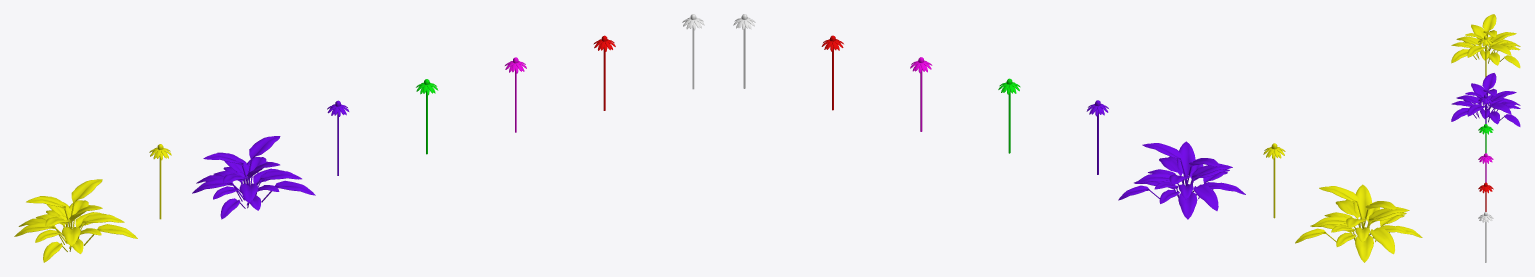
File: HostaConeflowerAltColours.fbx
The picture shows the model from 3 angles, left to right: view 1: azimuth 30°, elevation 25°; view 2: azimuth 150°, elevation 25°; view 3: azimuth 270°, elevation 25°; orthographic projection. The views are drawn at different scales.
Visible parts, largest first — view 1: no part large enough to name; view 2: pCube74 (×2); view 3: pCube74 (×28), pCylinder13 (×2).
Part boxes in pixels (<box>): pCube74 (×2): <box>1176,141,1372,219</box>; pCube74 (×28): <box>1451,14,1520,126</box>; pCylinder13 (×2): <box>1485,45,1486,262</box>.
Bounding box in the file's own units: 7.62 × 0.9067 × 1.
